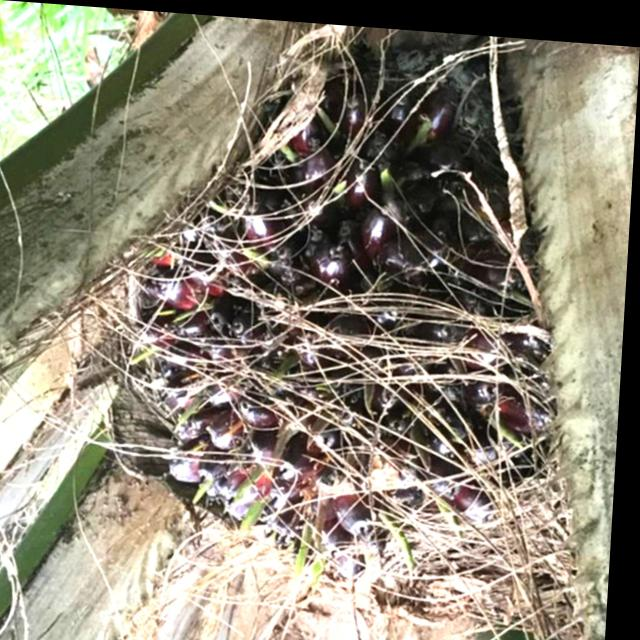ripe: (74, 22, 611, 631)
